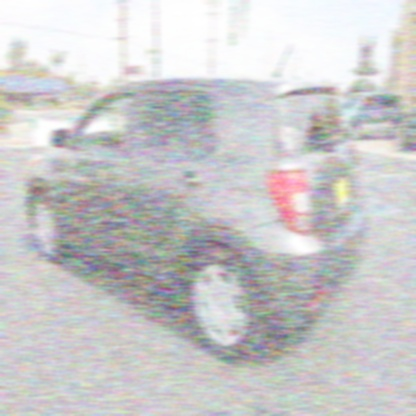Vehicle: (24, 75, 368, 363)
